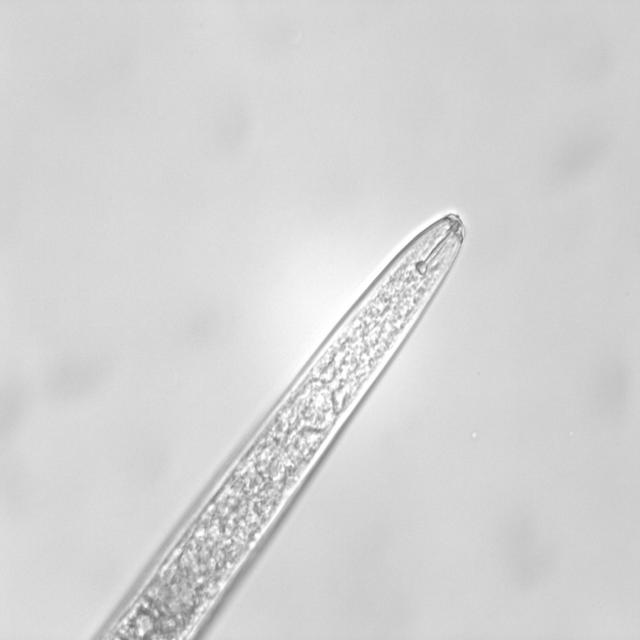Pratylenchus: (75, 197, 477, 640)
